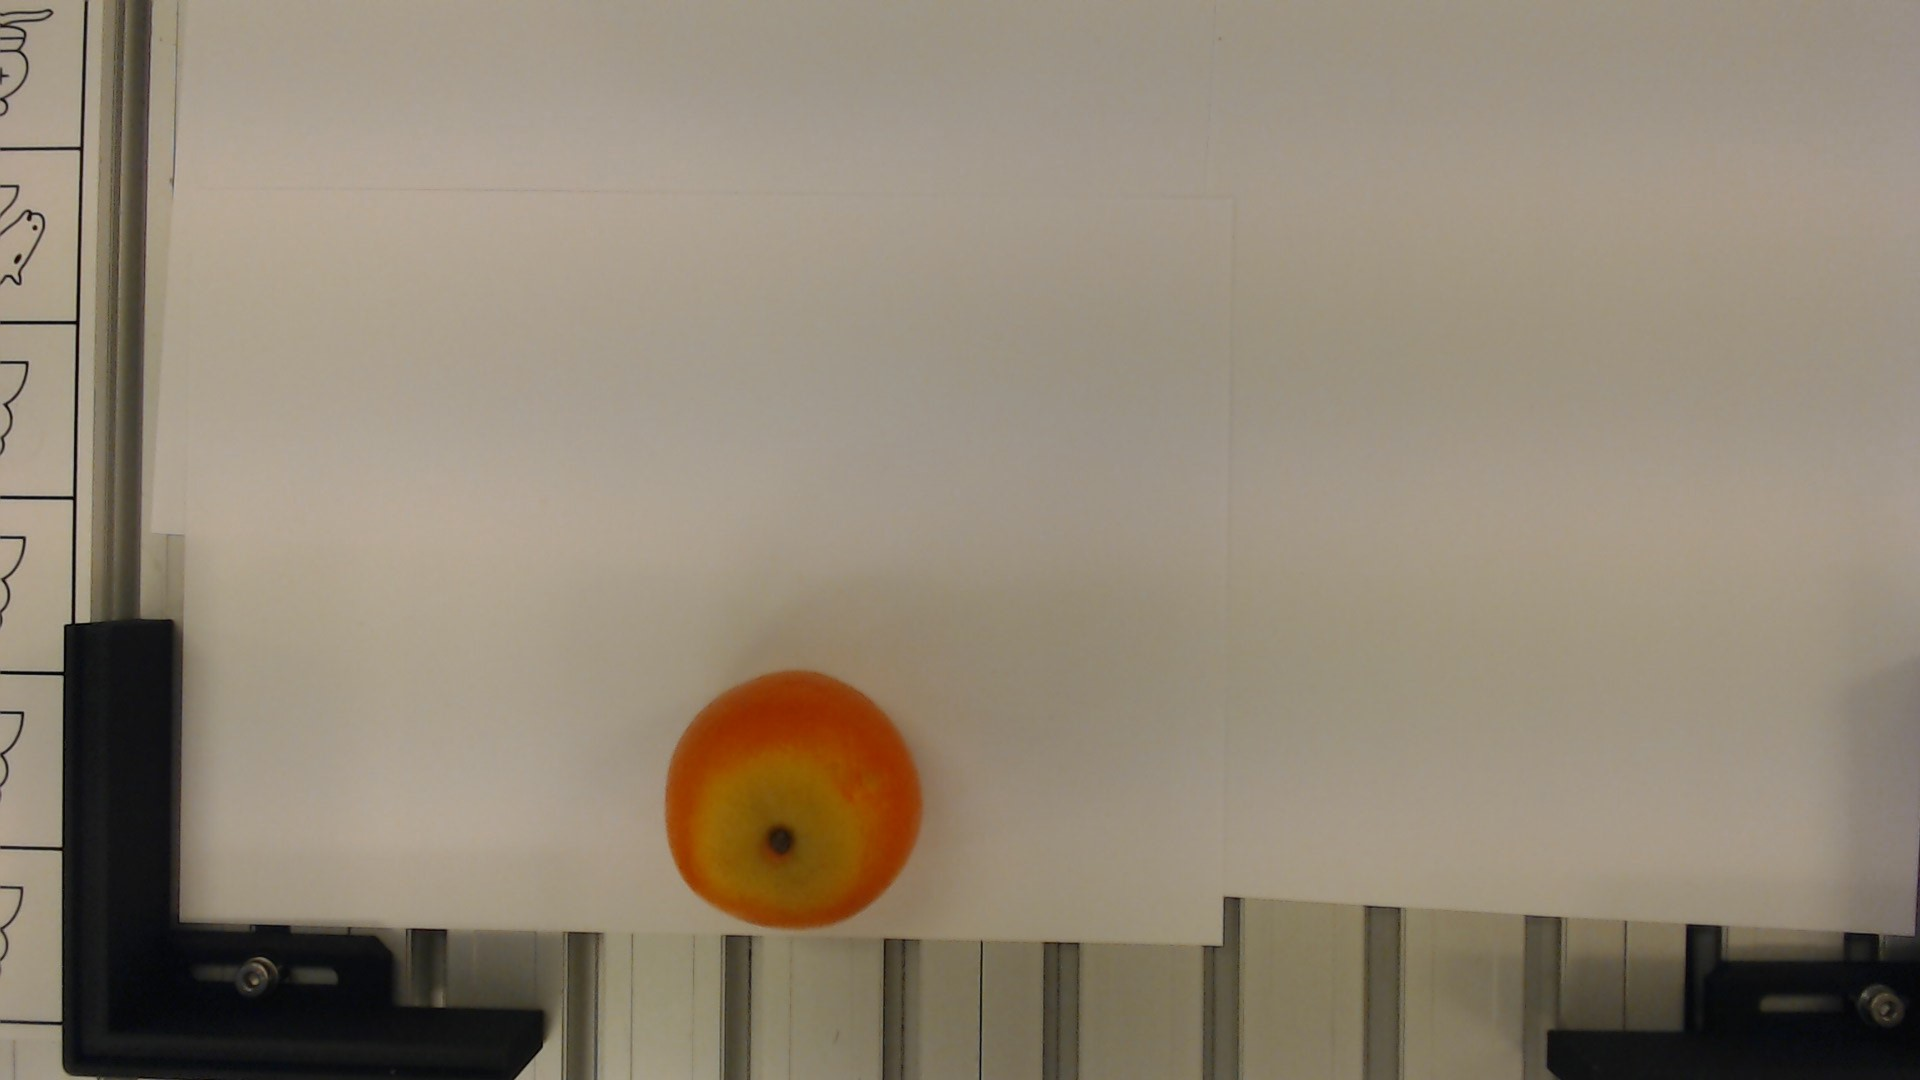Mandarin: (665, 676, 923, 934)
